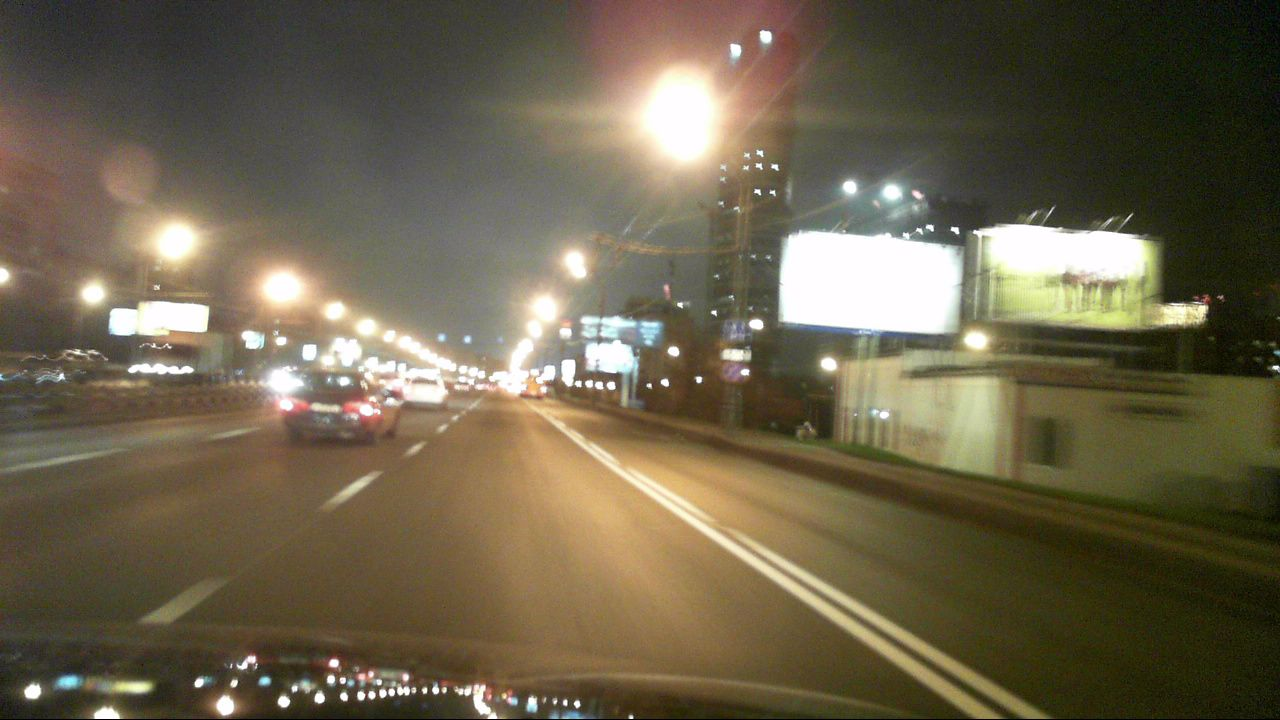No Parking: (722, 362, 743, 382)
